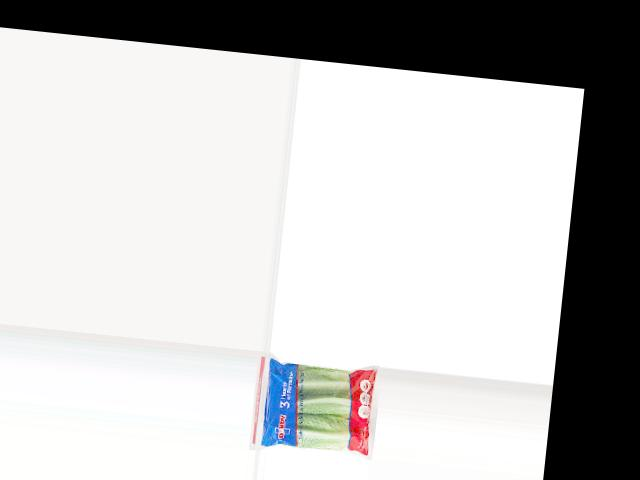lettuce: (255, 356, 381, 462)
